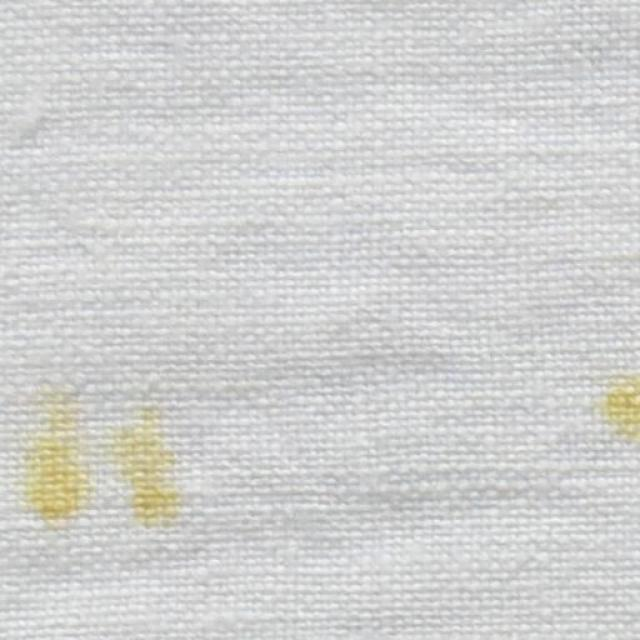Stain: (22, 388, 91, 521), (111, 409, 180, 528), (605, 379, 640, 441)
